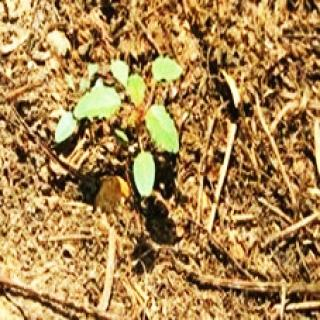wilt: (126, 104, 146, 142)
